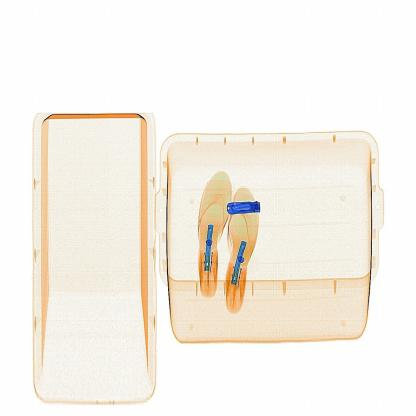knife: (220, 181, 266, 225)
